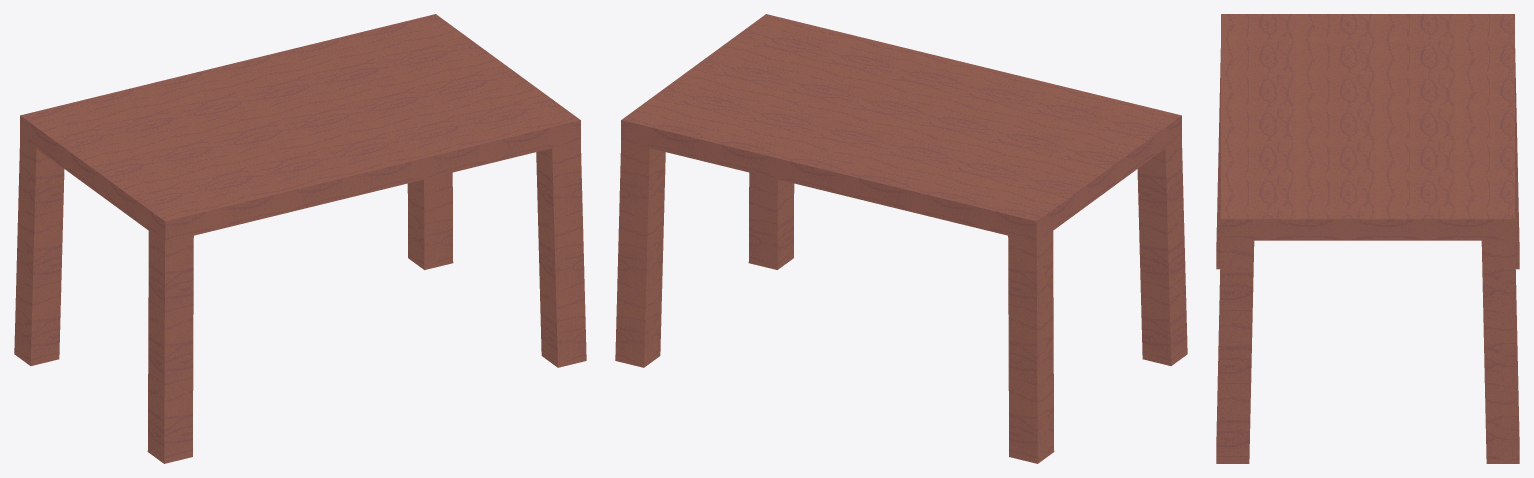
Rendered from table.glb.
3 views of the same model, side by side, from view 1: azimuth 30°, elevation 25°; view 2: azimuth 150°, elevation 25°; view 3: azimuth 270°, elevation 25° (orthographic).
Parts seen in each view (by area): view 1: Cube; view 2: Cube; view 3: Cube.
Part boxes in pixels (left/top/right/bottom): Cube: left=14, top=14, right=586, bottom=463; Cube: left=615, top=14, right=1187, bottom=463; Cube: left=1216, top=14, right=1519, bottom=463.
Size of the model in its own units: 1.54 by 0.8339 by 0.9446.
1 material, 1 textured.
